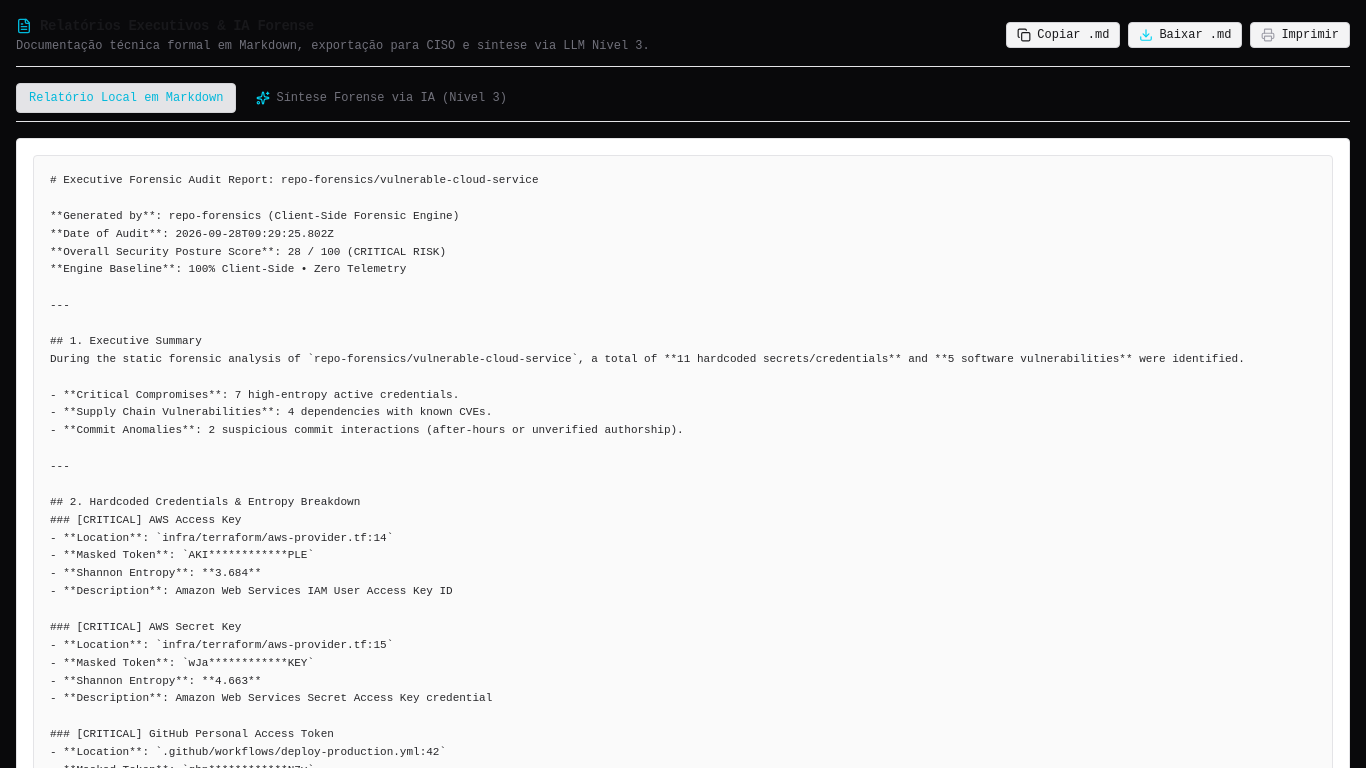
Test: ReportsView and AI Key Guardrail (ReportsView.test.tsx) › opens print preview & export modal when clicking Imprimir button
Click Imprimir button
Click the button "Imprimir": (1300, 35) [1250, 22, 1350, 48]
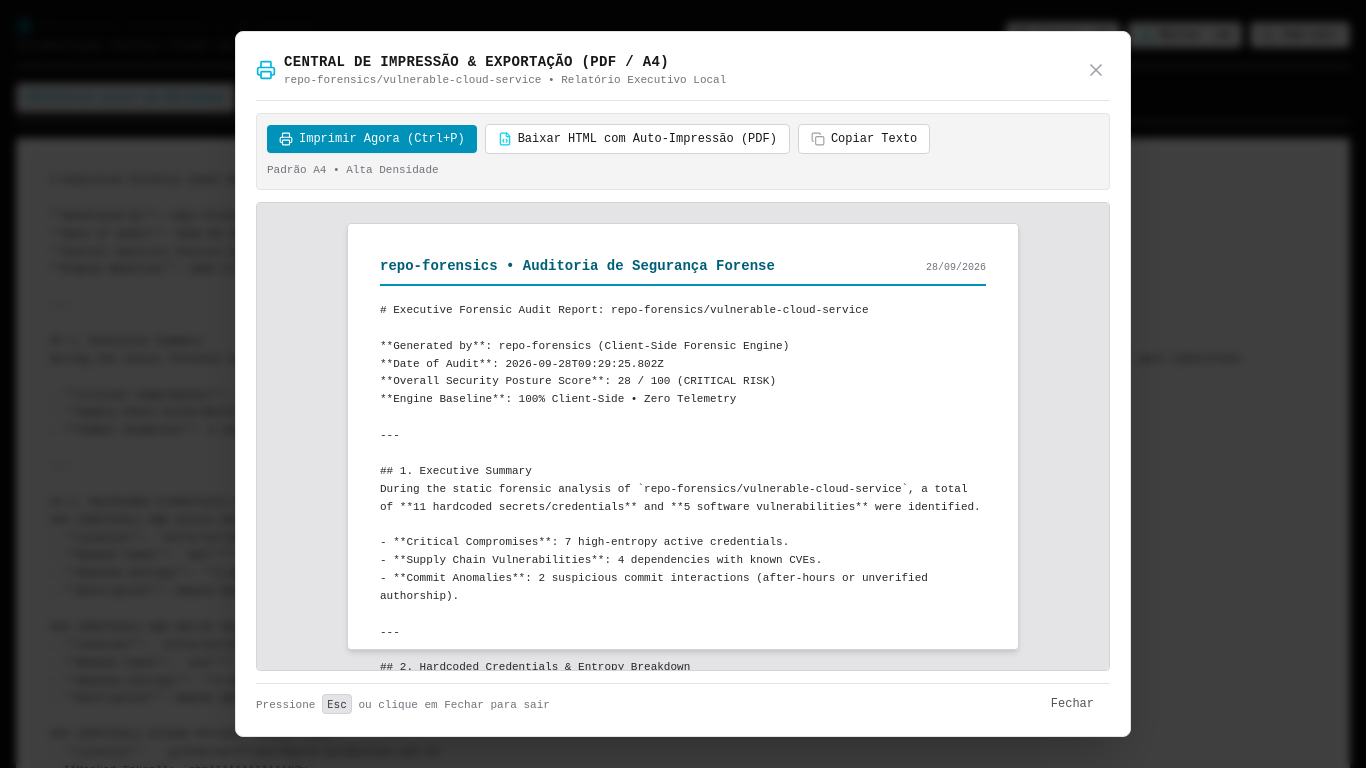
Result: the element with test id "print-preview-modal" is shown
Result: the heading "Central de Impressão & Exportação (PDF / A4)" is shown at [284, 52, 726, 72]
Result: the text "Imprimir Agora (Ctrl+P)" is shown at [299, 131, 465, 147]
Closing the modal
Click the button "Fechar": (1072, 704) [1035, 692, 1110, 716]
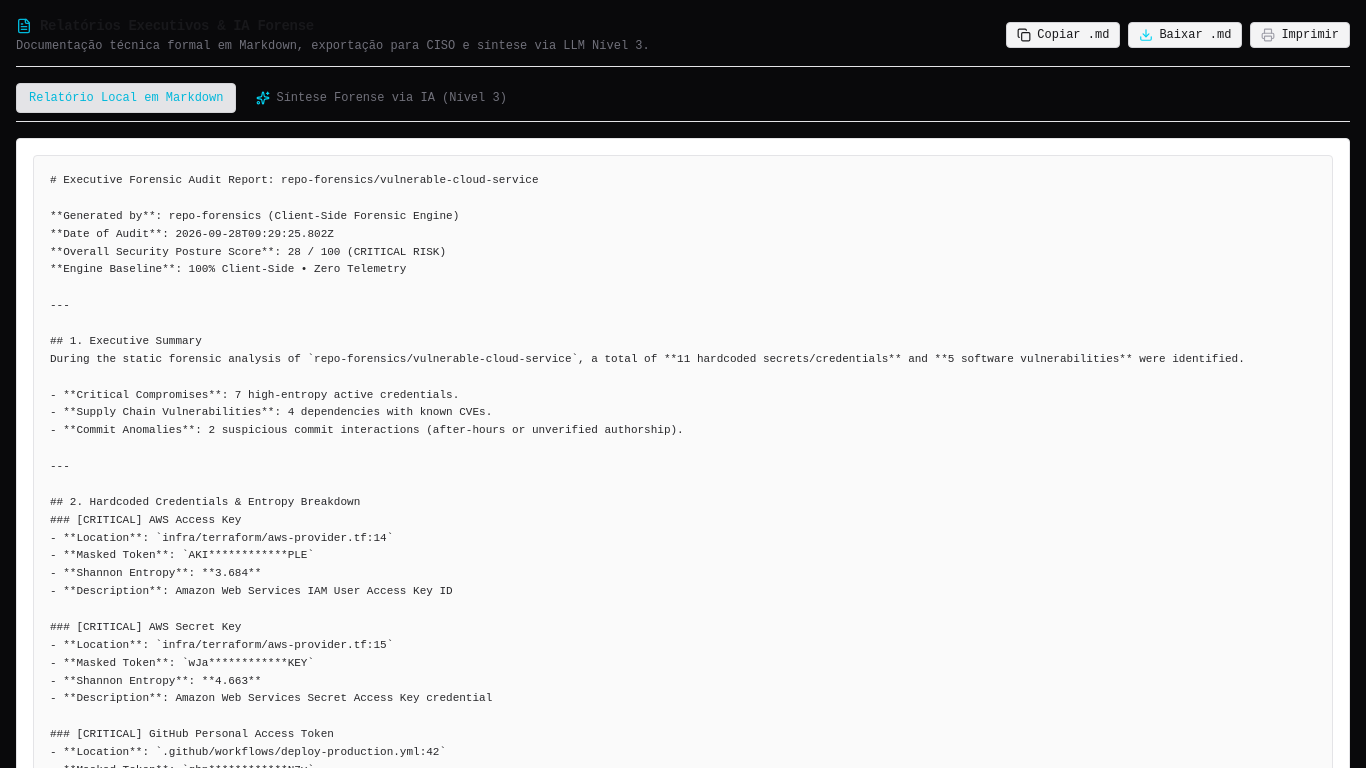
Result: the element with test id "print-preview-modal" is gone
